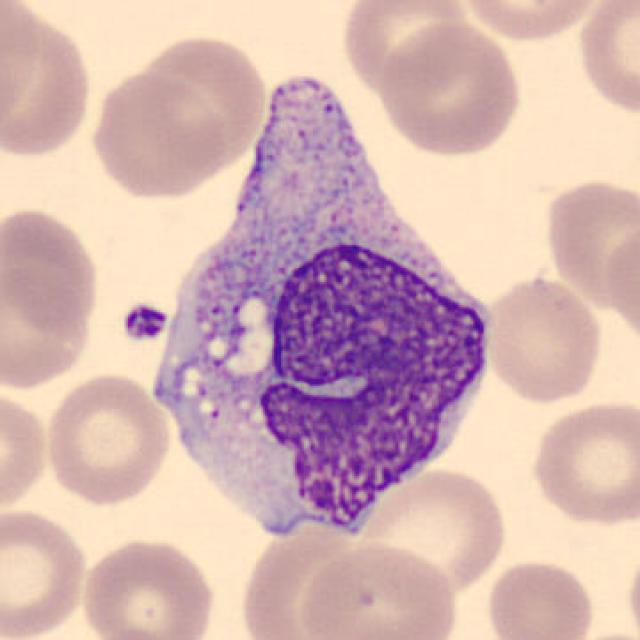Monocyte: (151, 49, 498, 550)
Platelets: (118, 300, 172, 344)
RBC: (374, 20, 526, 160), (354, 464, 512, 596), (130, 30, 270, 175), (86, 65, 230, 203), (41, 368, 174, 508), (295, 539, 460, 640), (480, 274, 606, 406), (0, 2, 98, 162), (76, 534, 218, 640), (526, 397, 638, 529), (0, 202, 105, 338), (0, 258, 100, 392), (540, 173, 636, 310), (338, 0, 473, 95), (0, 504, 92, 640), (482, 555, 597, 640), (572, 0, 638, 120), (0, 386, 52, 518), (455, 0, 610, 44), (0, 0, 43, 148), (601, 218, 640, 352), (626, 537, 640, 640)
